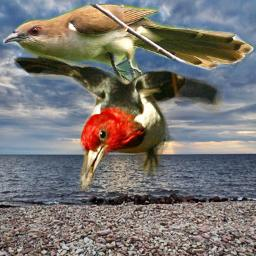Cuckoo: (3, 4, 255, 93)
Woodpecker: (0, 43, 223, 196)
